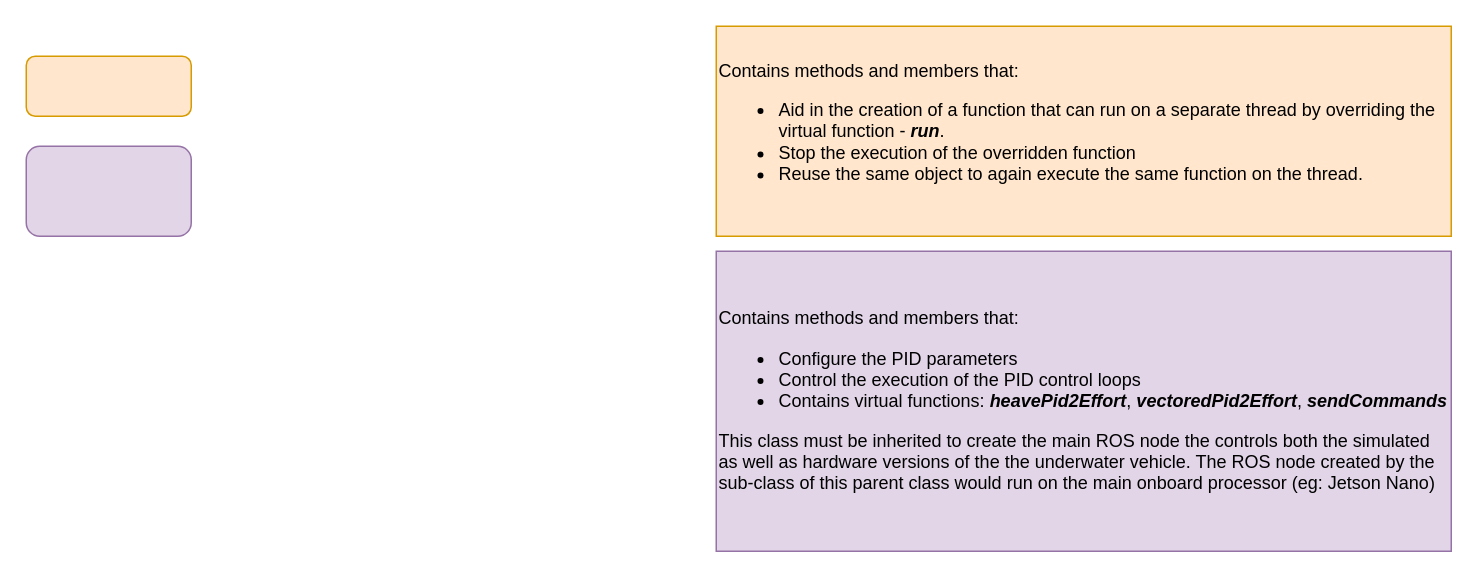
The diagram is 1478 pixels wide and 578 high, and some of its shapes have lost their labels. The centre of each missing label's shape, as x and y in pixels:
StoppableThread: the point at 108,85
Vec6Controller: the point at 108,190
